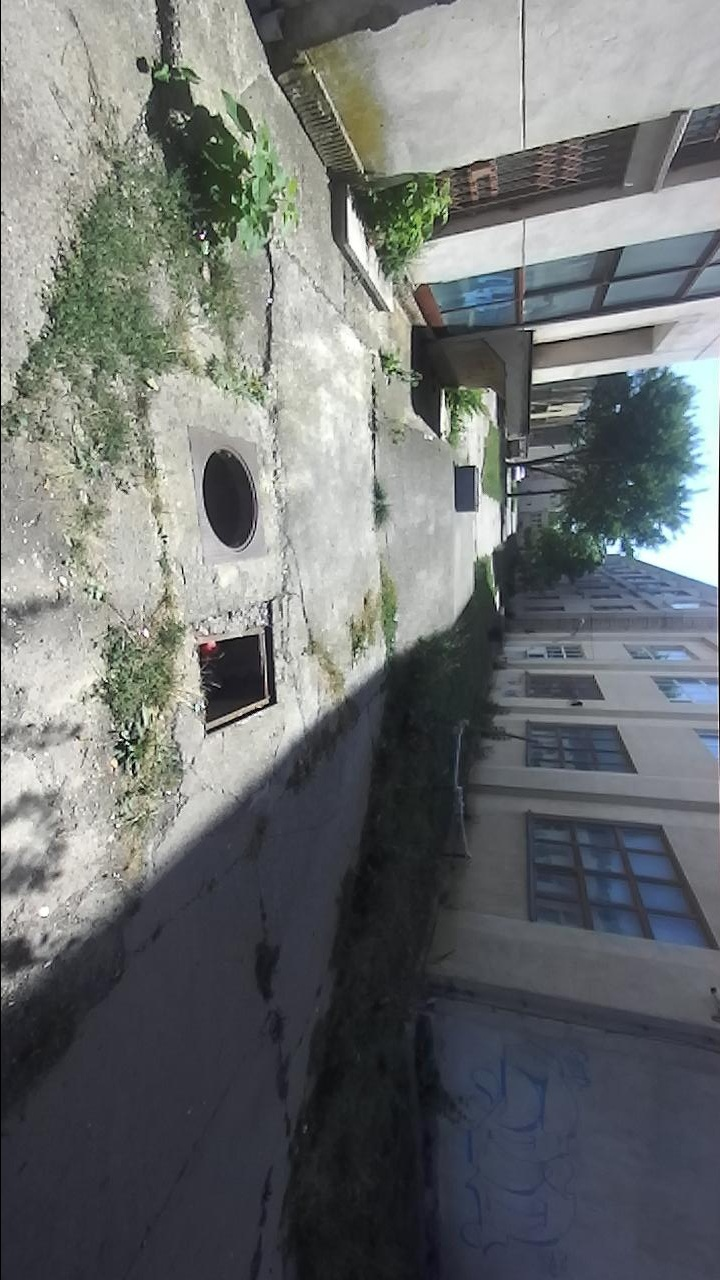drain: (194, 622, 280, 741), (196, 440, 261, 564)
